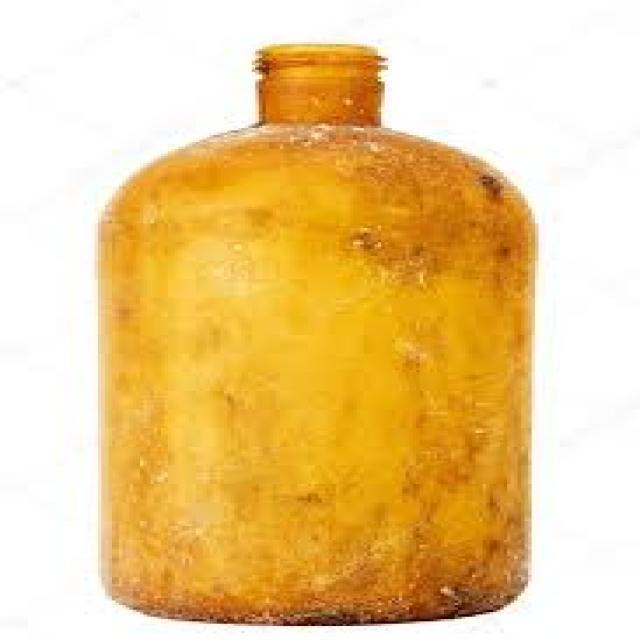HDPE Plastic: (85, 58, 545, 630)
